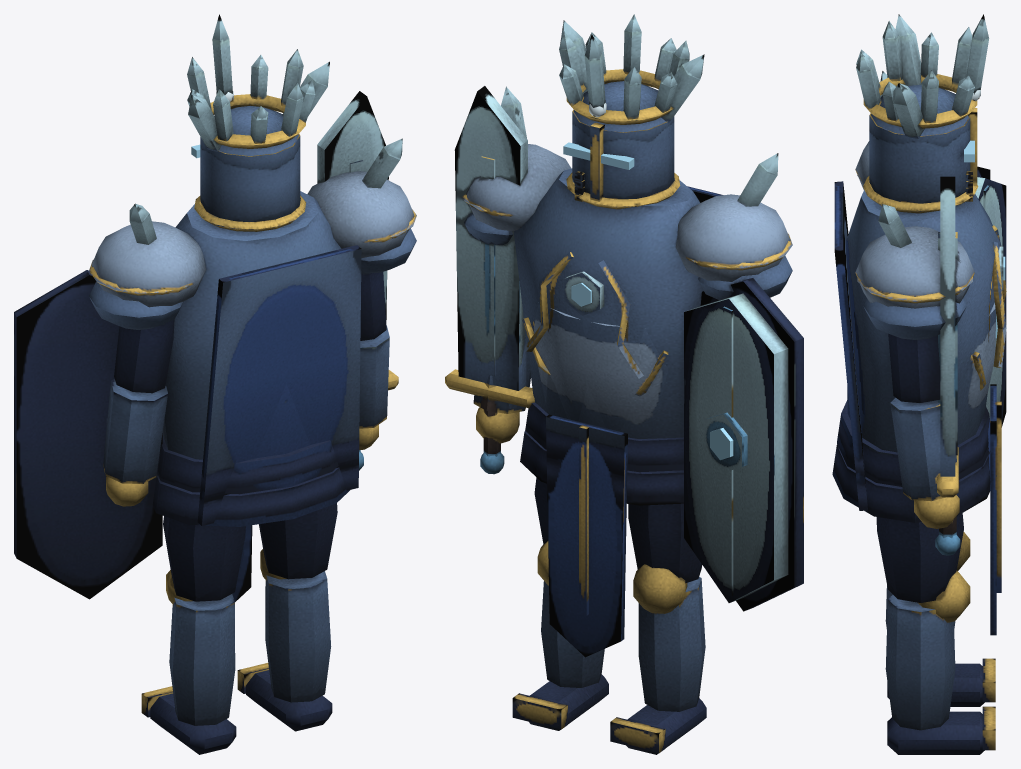
The model's file is alpha_glacier_knight.fbx.
The picture shows the model from 3 angles, left to right: view 1: azimuth 30°, elevation 25°; view 2: azimuth 150°, elevation 25°; view 3: azimuth 270°, elevation 25°; orthographic projection. The views are drawn at different scales.
Visible parts, largest first — view 1: Body, ForearmL, ArmL, Head, KneeL, KneeR, ArmR, ForearmR, Trophy_IceCrown, LegL, LegR; view 2: Body, ForearmL, ForearmR, KneeL, Head, ArmL, Trophy_IceCrown, KneeR, ArmR, LegL, Head_Glow_Frost, LegR (+1 smaller); view 3: Body, KneeR, ArmR, ForearmR, Head, Trophy_IceCrown, LegR, ForearmL, KneeL, ArmL.
Part boxes in pixels (x1,y1,x2,y2): Body: [152, 191, 361, 601]; ForearmL: [14, 270, 167, 599]; ArmL: [89, 203, 206, 393]; Head: [188, 61, 329, 231]; KneeL: [141, 570, 236, 754]; KneeR: [237, 549, 332, 731]; ArmR: [307, 138, 416, 340]; ForearmR: [317, 91, 398, 470]; Trophy_IceCrown: [187, 14, 315, 148]; LegL: [163, 516, 245, 601]; LegR: [259, 503, 337, 579]; Body: [514, 168, 723, 657]; ForearmL: [684, 278, 803, 611]; ForearmR: [445, 86, 534, 474]; KneeL: [610, 564, 706, 754]; Head: [560, 20, 704, 209]; ArmL: [675, 153, 792, 300]; Trophy_IceCrown: [559, 14, 689, 124]; KneeR: [512, 541, 608, 730]; ArmR: [462, 86, 571, 245]; LegL: [628, 503, 702, 583]; Head_Glow_Frost: [563, 142, 634, 169]; LegR: [534, 477, 547, 544]; Body: [832, 181, 1006, 635]; KneeR: [885, 570, 995, 754]; ArmR: [855, 204, 974, 402]; ForearmR: [890, 176, 960, 555]; Head: [863, 14, 978, 213]; Trophy_IceCrown: [856, 14, 989, 128]; LegR: [876, 513, 963, 602]; ForearmL: [975, 166, 1006, 427]; KneeL: [885, 532, 995, 706]; ArmL: [855, 71, 887, 189].
Bounding box in the file's own units: 514 × 936 × 208.
Materials: 3 (1 with a texture image).
